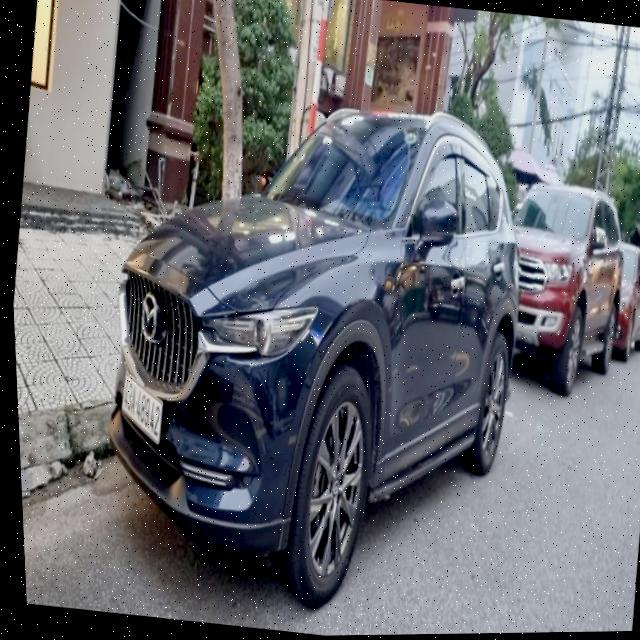car: (45, 65, 567, 627), (490, 170, 640, 395)
plate: (111, 371, 174, 451)
